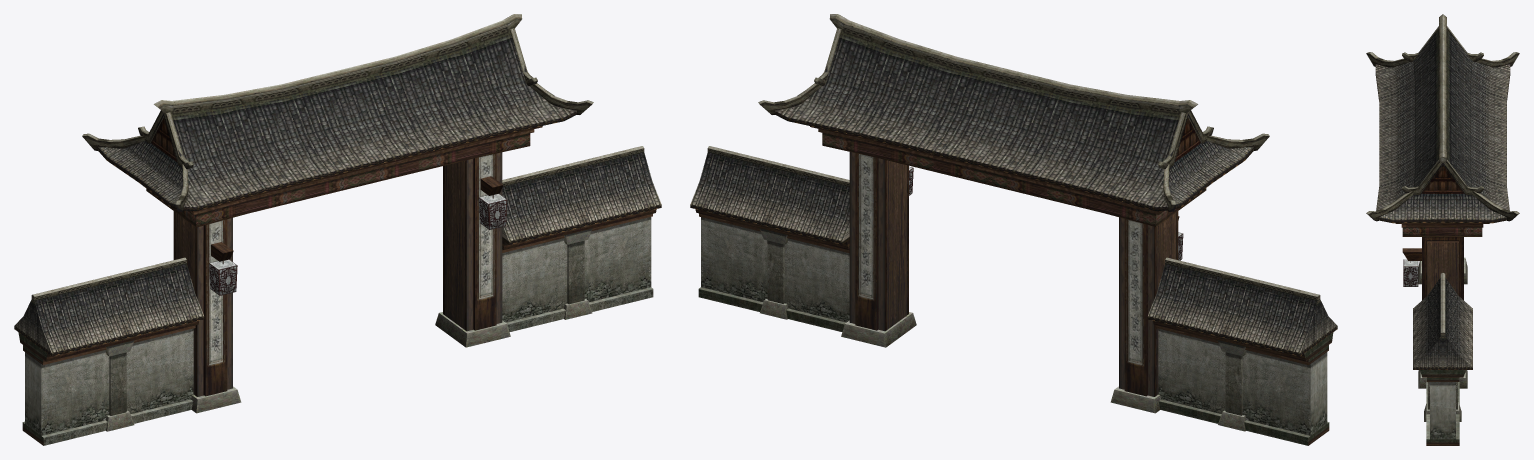
File: b1-038-wall-door.fbx
3 views of the same model, side by side, from view 1: azimuth 30°, elevation 25°; view 2: azimuth 150°, elevation 25°; view 3: azimuth 270°, elevation 25° (orthographic). The views are drawn at different scales.
Visible parts, largest first — view 1: b1-038-wall; view 2: b1-038-wall; view 3: b1-038-wall.
Part boxes in pixels (x1,y1,x2,y2): b1-038-wall: (14,14,661,445); b1-038-wall: (690,14,1337,445); b1-038-wall: (1366,14,1519,445).
Bounding box in the file's own units: 20 × 9.62 × 5.49.
